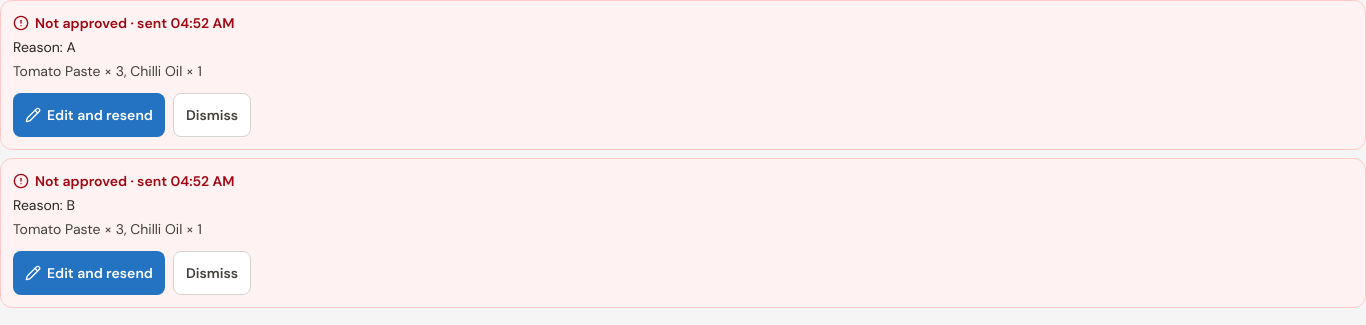
it: NotApprovedCard › Dismiss › hides the card, and only that card
The width and height of the screenshot is (1366, 325).
Step 1. Click the button "Dismiss" below "Reason: A" → coordinates (212, 115), box [173, 93, 251, 137]
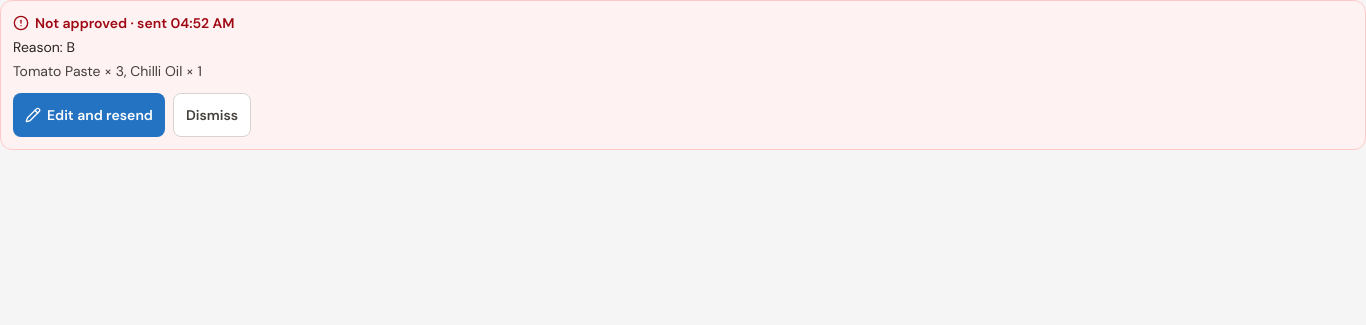
Expected: the text "Reason: B" is shown, [13, 38, 75, 56]
Now the text "Reason: A" is gone
